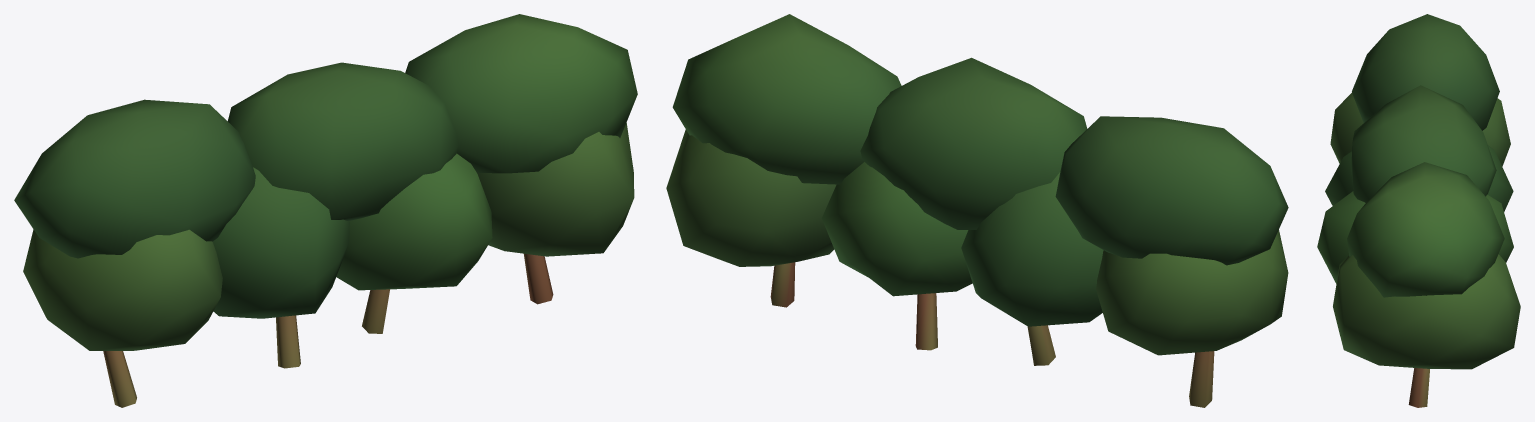
File: hedge_dense_lod1.glb
3 views of the same model, side by side, from view 1: azimuth 30°, elevation 25°; view 2: azimuth 150°, elevation 25°; view 3: azimuth 270°, elevation 25° (orthographic). The views are drawn at different scales.
Parts seen in each view (by area): view 1: orchard_hedge_dense_lod1_Foliage, orchard_hedge_dense_lod1_Stems; view 2: orchard_hedge_dense_lod1_Foliage, orchard_hedge_dense_lod1_Stems; view 3: orchard_hedge_dense_lod1_Foliage, orchard_hedge_dense_lod1_Stems.
Boxes of the visible parts, <box> form: orchard_hedge_dense_lod1_Foliage: <box>14,14,637,350</box>; orchard_hedge_dense_lod1_Stems: <box>103,253,553,407</box>; orchard_hedge_dense_lod1_Foliage: <box>666,14,1288,355</box>; orchard_hedge_dense_lod1_Stems: <box>770,262,1214,407</box>; orchard_hedge_dense_lod1_Foliage: <box>1317,14,1520,369</box>; orchard_hedge_dense_lod1_Stems: <box>1408,368,1429,407</box>.
Bounding box in the file's own units: 3.33 × 1.5 × 1.24.
